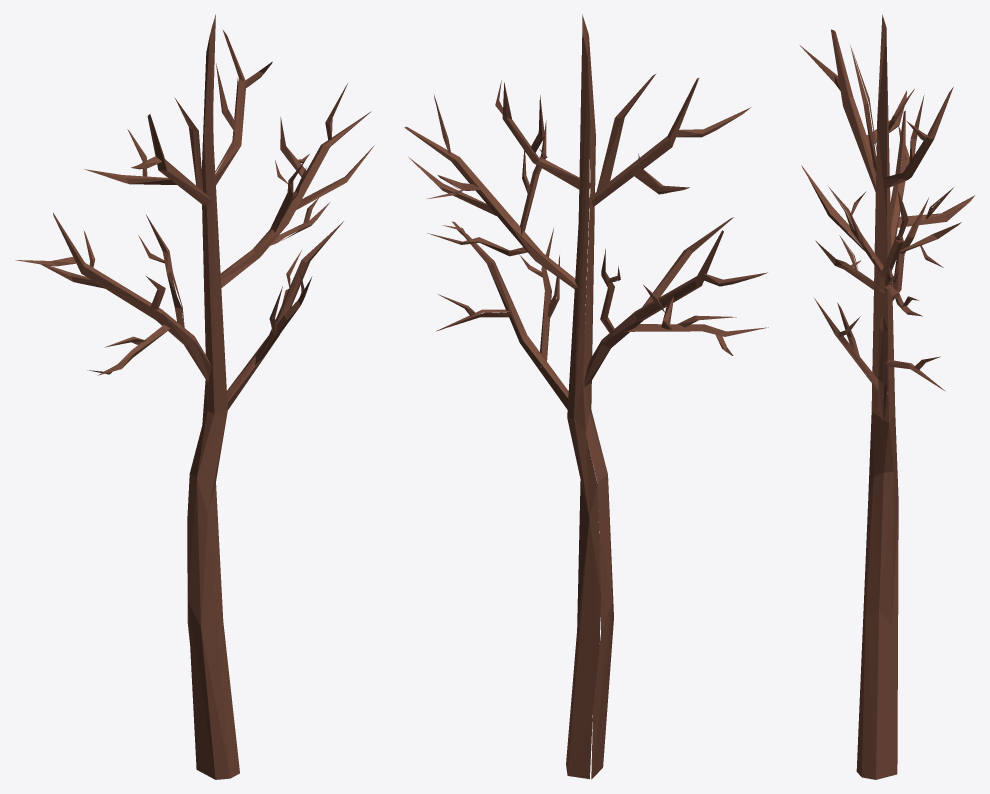
Rendered from estilizada-DeadTree_1.glb.
3 renders of one model, left to right at view 1: azimuth 30°, elevation 25°; view 2: azimuth 150°, elevation 25°; view 3: azimuth 270°, elevation 25°, orthographic.
Visible parts, largest first — view 1: DeadTree_1.001; view 2: DeadTree_1.001; view 3: DeadTree_1.001.
Part boxes in pixels (x1,y1,x2,y2): DeadTree_1.001: (15,14,374,779); DeadTree_1.001: (404,14,768,779); DeadTree_1.001: (800,14,974,779).
Size of the model in its own units: 3.09 by 6.18 by 1.31.
